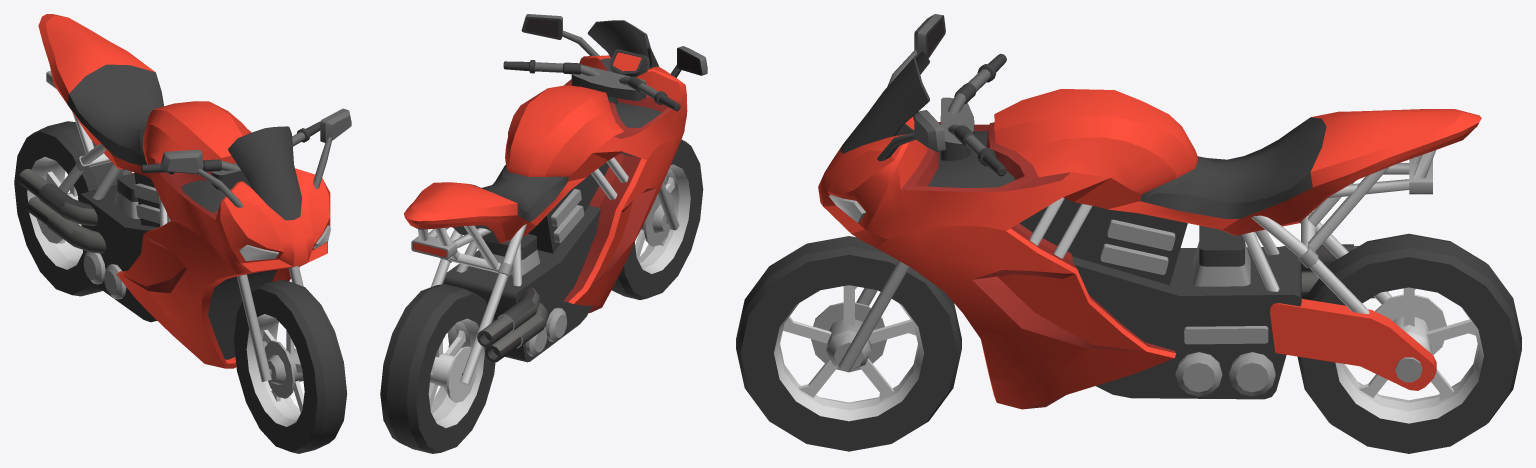
Rendered from MotoRacing.fbx.
3 views of the same model, side by side, from view 1: azimuth 30°, elevation 25°; view 2: azimuth 150°, elevation 25°; view 3: azimuth 270°, elevation 25° (orthographic). The views are drawn at different scales.
Visible parts, largest first — view 1: Body, FrontWheel.001, RearWheel.001, FrontWheelBase.001; view 2: Body, RearWheel.001, FrontWheel.001, FrontWheelBase.001; view 3: Body, FrontWheel.001, RearWheel.001, FrontWheelBase.001.
Part boxes in pixels (x1,y1,x2,y2): Body: (18, 14, 351, 368); FrontWheel.001: (233, 280, 347, 453); RearWheel.001: (14, 121, 123, 296); FrontWheelBase.001: (141, 121, 320, 398); Body: (404, 14, 707, 402); RearWheel.001: (380, 284, 495, 453); FrontWheel.001: (612, 139, 703, 299); FrontWheelBase.001: (503, 60, 680, 246); Body: (818, 14, 1481, 409); FrontWheel.001: (736, 236, 961, 451); RearWheel.001: (1297, 233, 1521, 453); FrontWheelBase.001: (811, 53, 1006, 372).
Size of the model in its own units: 88.37 by 132 by 243.
